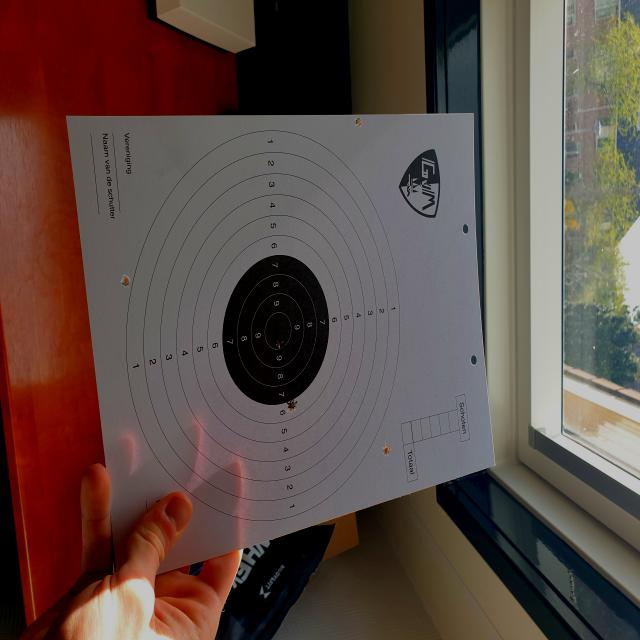0: (382, 442, 392, 457), (121, 274, 130, 288), (355, 118, 363, 129)
10: (275, 337, 286, 352)
7: (286, 400, 297, 413)
Target: (125, 130, 401, 524)
black_contour: (222, 255, 330, 406)
